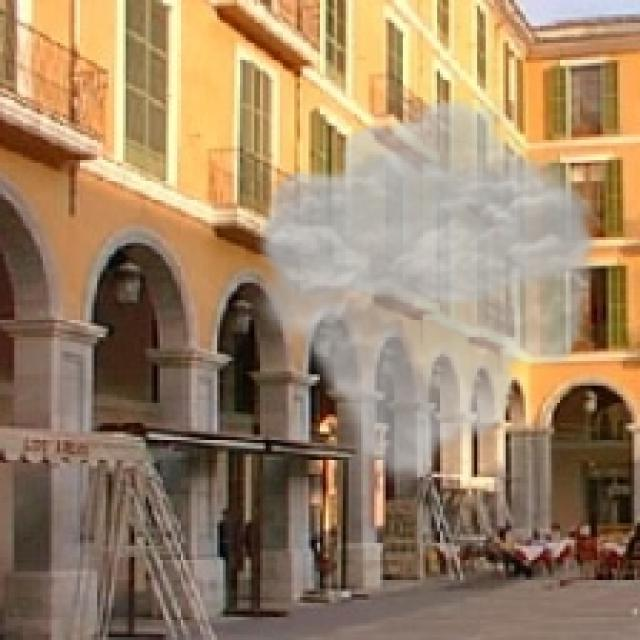smoke: (248, 94, 606, 486)
